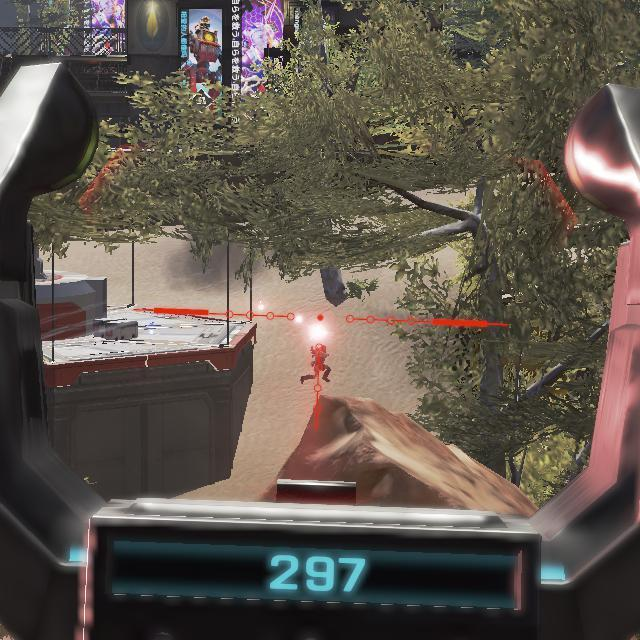avatar: (309, 341, 332, 386)
